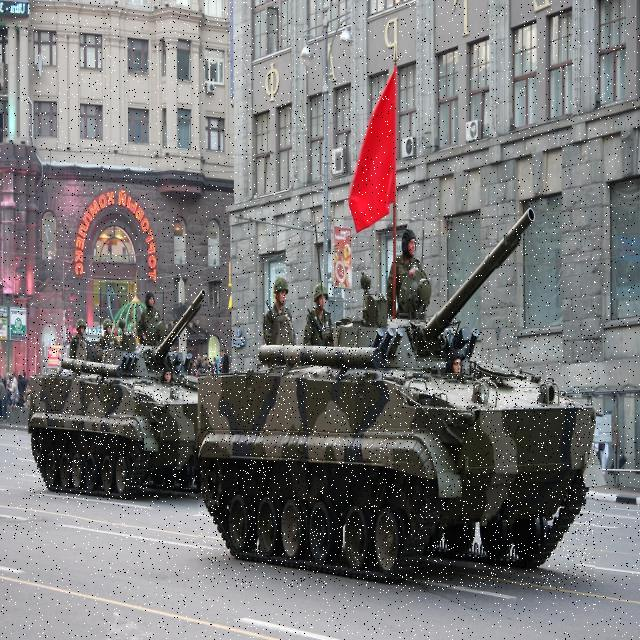MIL_MBT: (198, 329, 594, 588), (30, 329, 188, 499)
